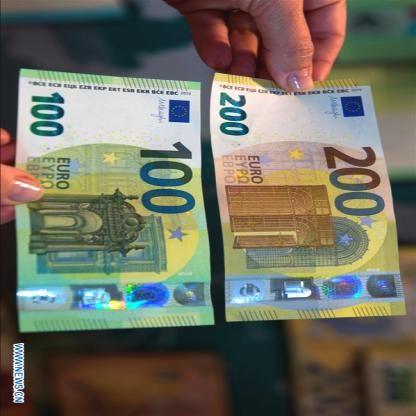euro_banknote: (176, 105, 416, 285)
